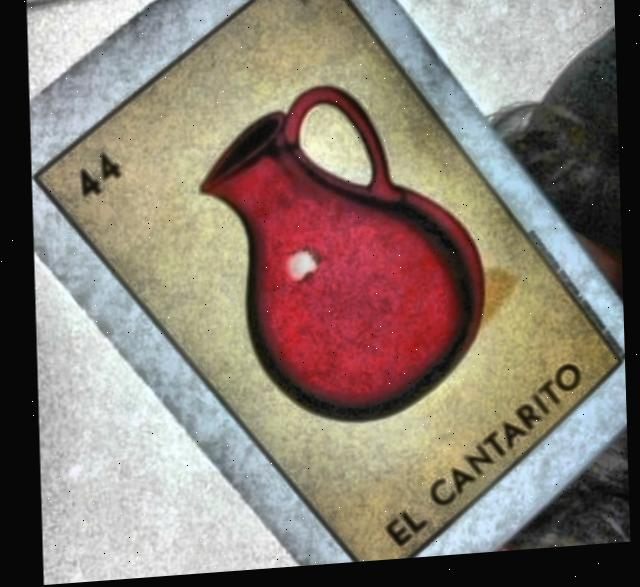El Cantarito: (38, 0, 617, 567)
